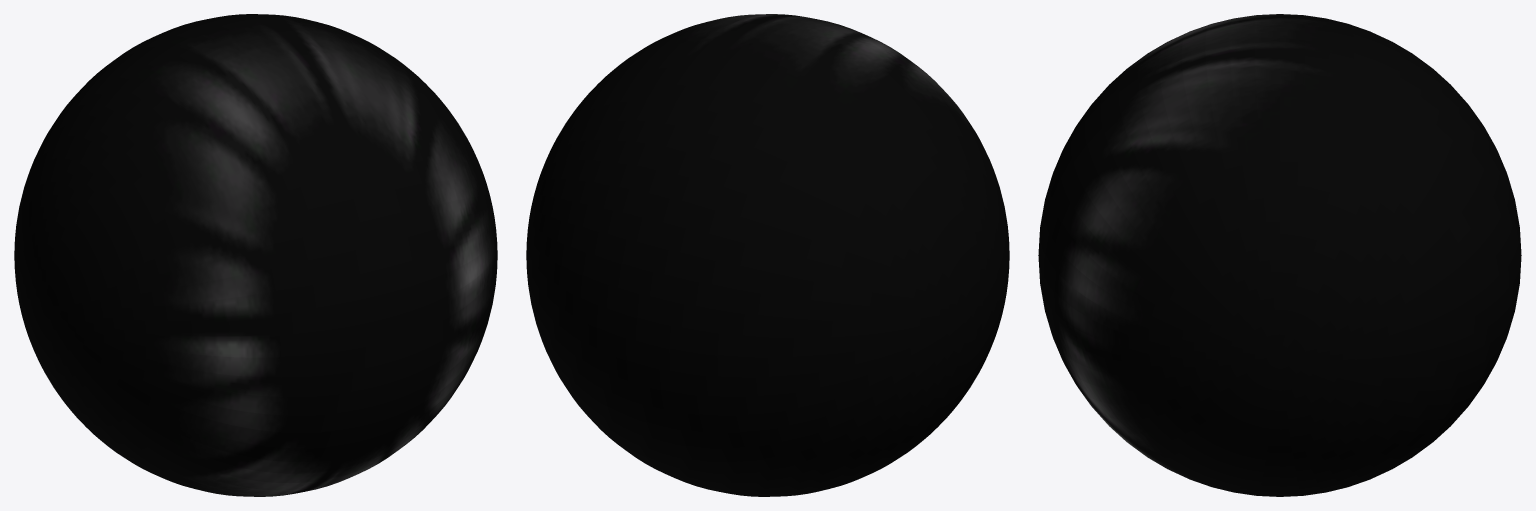
The picture shows the model from 3 angles, left to right: view 1: azimuth 30°, elevation 25°; view 2: azimuth 150°, elevation 25°; view 3: azimuth 270°, elevation 25°; orthographic projection.
Visible parts, largest first — view 1: SM_VFX_TSphere.mo; view 2: SM_VFX_TSphere.mo; view 3: SM_VFX_TSphere.mo.
Boxes of the visible parts, x1,y1,x2,y2 form: SM_VFX_TSphere.mo: (14, 14, 497, 496); SM_VFX_TSphere.mo: (526, 14, 1009, 496); SM_VFX_TSphere.mo: (1038, 14, 1521, 496).
Bounding box in the file's own units: 247 × 247 × 247.
1 material, 1 textured.
